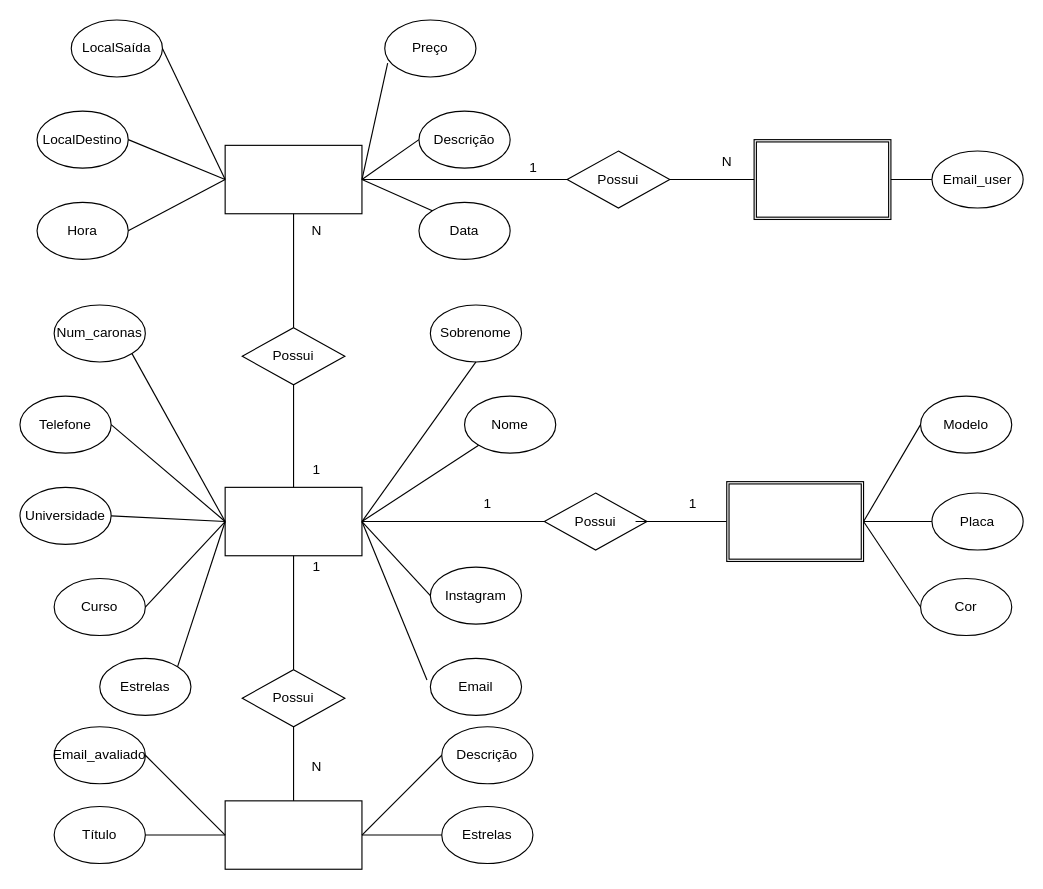
This 1043x889 diagram has some shape labels left out. Here are the shapes that lost their labels. From the top down, the centre of each, then its label:
(x=293, y=179): Carona
(x=822, y=179): Passageiro
(x=293, y=521): User
(x=795, y=521): Carro
(x=293, y=834): AvaliaçãoFeita
